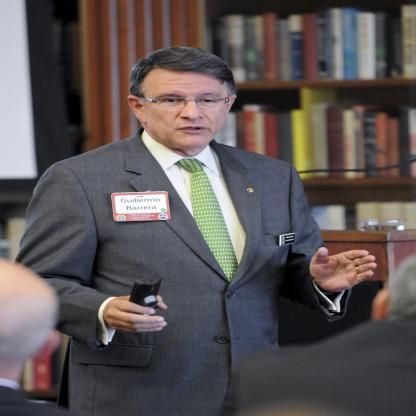book: (209, 99, 416, 181), (210, 11, 416, 83)
